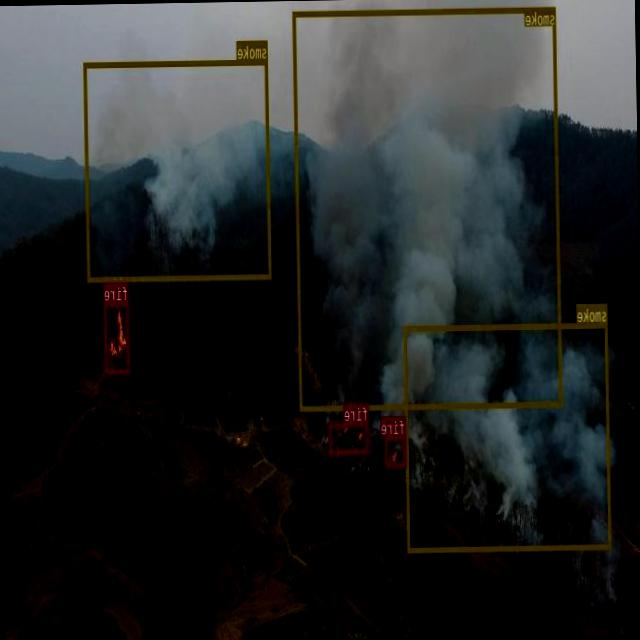fire: (104, 300, 130, 373), (328, 419, 369, 454), (384, 434, 406, 466)
smoke: (292, 6, 562, 410), (404, 322, 612, 552), (84, 58, 272, 281)
